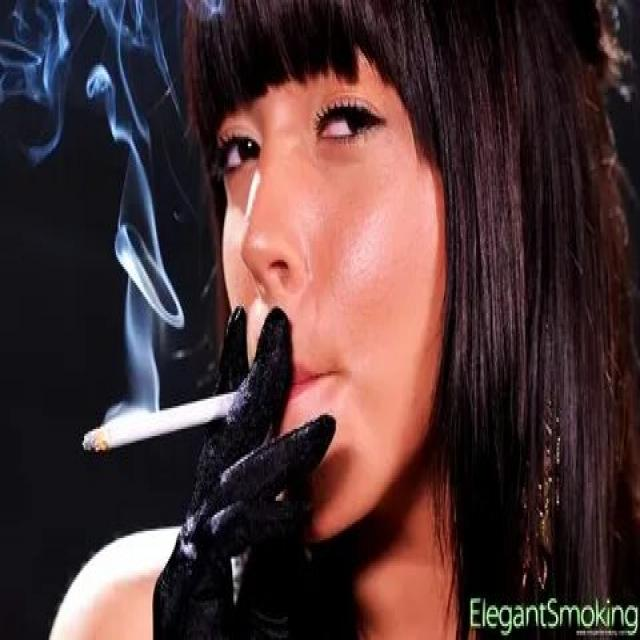smoke: (80, 376, 252, 456)
